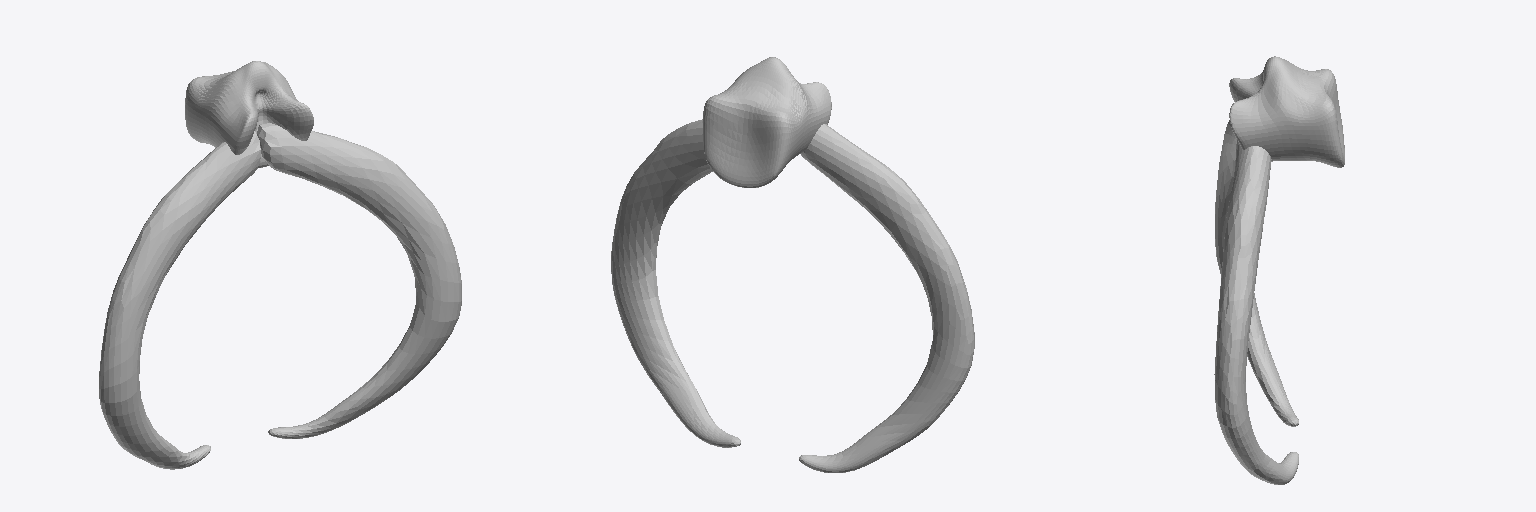
The model's file is ribvertabrae15.obj.
3 renders of one model, left to right at view 1: azimuth 30°, elevation 25°; view 2: azimuth 150°, elevation 25°; view 3: azimuth 270°, elevation 25°, orthographic.
Parts seen in each view (by area): view 1: Cube.099_Cube.101; view 2: Cube.099_Cube.101; view 3: Cube.099_Cube.101.
Boxes of the visible parts, box(x1,y1,x2,y2) form: Cube.099_Cube.101: box(99, 61, 461, 469); Cube.099_Cube.101: box(611, 57, 974, 472); Cube.099_Cube.101: box(1214, 56, 1344, 484).
Size of the model in its own units: 0.4287 by 0.4469 by 0.1346.